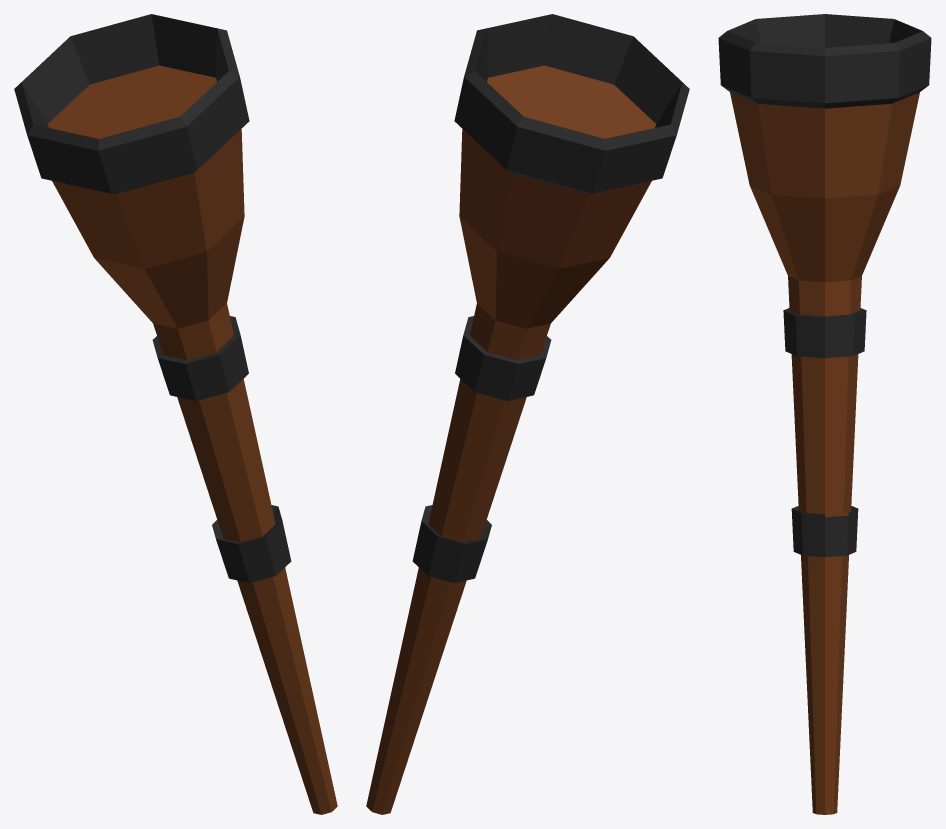
The model's file is torch.fbx.
3 views of the same model, side by side, from view 1: azimuth 30°, elevation 25°; view 2: azimuth 150°, elevation 25°; view 3: azimuth 270°, elevation 25° (orthographic). The views are drawn at different scales.
Visible parts, largest first — view 1: Cylinder; view 2: Cylinder; view 3: Cylinder.
Part boxes in pixels (box(x1,y1,x2,y2)): Cylinder: box(14, 14, 337, 814); Cylinder: box(366, 14, 689, 814); Cylinder: box(718, 14, 931, 814).
Size of the model in its own units: 2336 by 5837 by 1563.
